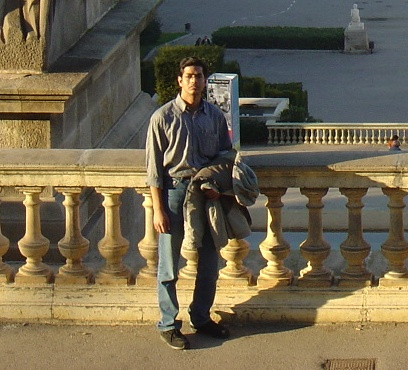person: (141, 53, 239, 347)
